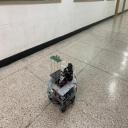cart: (46, 73, 78, 113)
